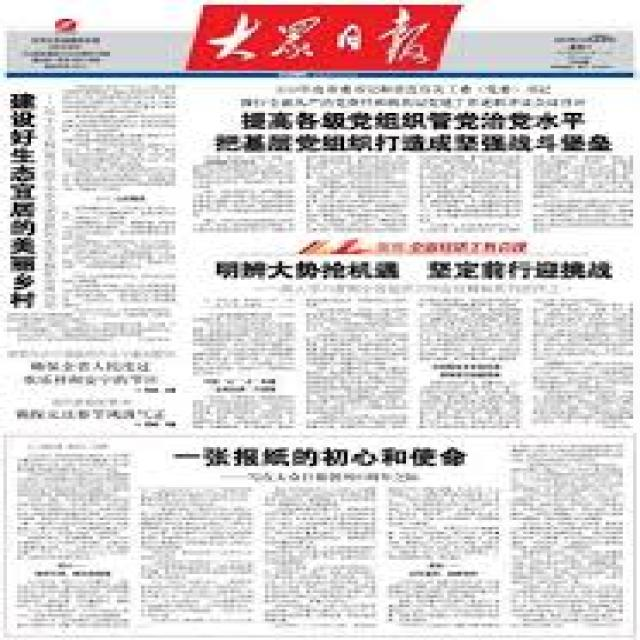paper: (3, 9, 640, 640)
